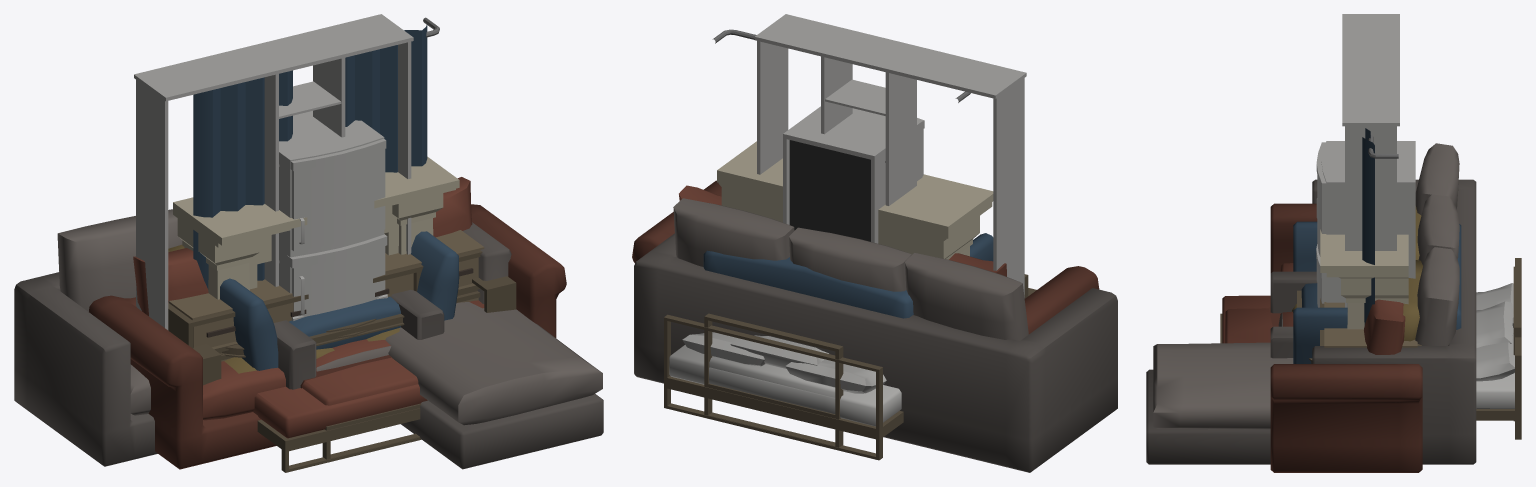
File: furniture.glb
The picture shows the model from 3 angles, left to right: view 1: azimuth 30°, elevation 25°; view 2: azimuth 150°, elevation 25°; view 3: azimuth 270°, elevation 25°; orthographic projection. The views are drawn at different scales.
Visible parts, largest first — view 1: Couch_L, Couch_Large1, Shelf_Large, Kitchen_Fridge, Curtains_Double, Fireplace, Couch_Small1, Bed_King, Drawer_3, Bed_Single, Couch_Small2, Couch_Medium2 (+1 smaller); view 2: Couch_L, Shelf_Large, Bed_King, Kitchen_Fridge, Fireplace, Bed_Single, Couch_Small1, Couch_Large1; view 3: Couch_L, Couch_Large1, Shelf_Large, Kitchen_Fridge, Bed_King, Fireplace, Couch_Small1, Bed_Single, Couch_Small2, Curtains_Double, Couch_Medium2, Drawer_3.
Part boxes in pixels (<box>): Couch_L: <box>14,209,603,469</box>; Couch_Large1: <box>89,177,566,469</box>; Shelf_Large: <box>134,14,413,330</box>; Kitchen_Fridge: <box>279,111,387,316</box>; Curtains_Double: <box>193,17,439,289</box>; Fireplace: <box>173,156,459,299</box>; Couch_Small1: <box>220,231,459,370</box>; Bed_King: <box>253,384,427,472</box>; Drawer_3: <box>168,230,484,361</box>; Bed_Single: <box>300,355,421,459</box>; Couch_Small2: <box>273,289,444,389</box>; Couch_Medium2: <box>168,244,516,385</box>; Couch_L: <box>634,198,1117,472</box>; Shelf_Large: <box>754,14,1026,297</box>; Bed_King: <box>664,314,903,460</box>; Kitchen_Fridge: <box>783,106,924,243</box>; Fireplace: <box>717,141,993,259</box>; Bed_Single: <box>704,313,844,447</box>; Couch_Small1: <box>703,233,993,318</box>; Couch_Large1: <box>632,180,1099,334</box>; Couch_L: <box>1146,143,1476,464</box>; Couch_Large1: <box>1270,203,1422,472</box>; Shelf_Large: <box>1342,14,1399,307</box>; Kitchen_Fridge: <box>1316,141,1415,307</box>; Bed_King: <box>1220,258,1521,439</box>; Fireplace: <box>1320,229,1408,329</box>; Couch_Small1: <box>1293,221,1461,363</box>; Bed_Single: <box>1220,266,1521,421</box>; Couch_Small2: <box>1270,271,1317,358</box>; Curtains_Double: <box>1362,128,1398,325</box>; Couch_Medium2: <box>1292,206,1422,341</box>; Drawer_3: <box>1320,298,1421,347</box>.
Size of the model in its own units: 6.04 by 4.48 by 4.92.
